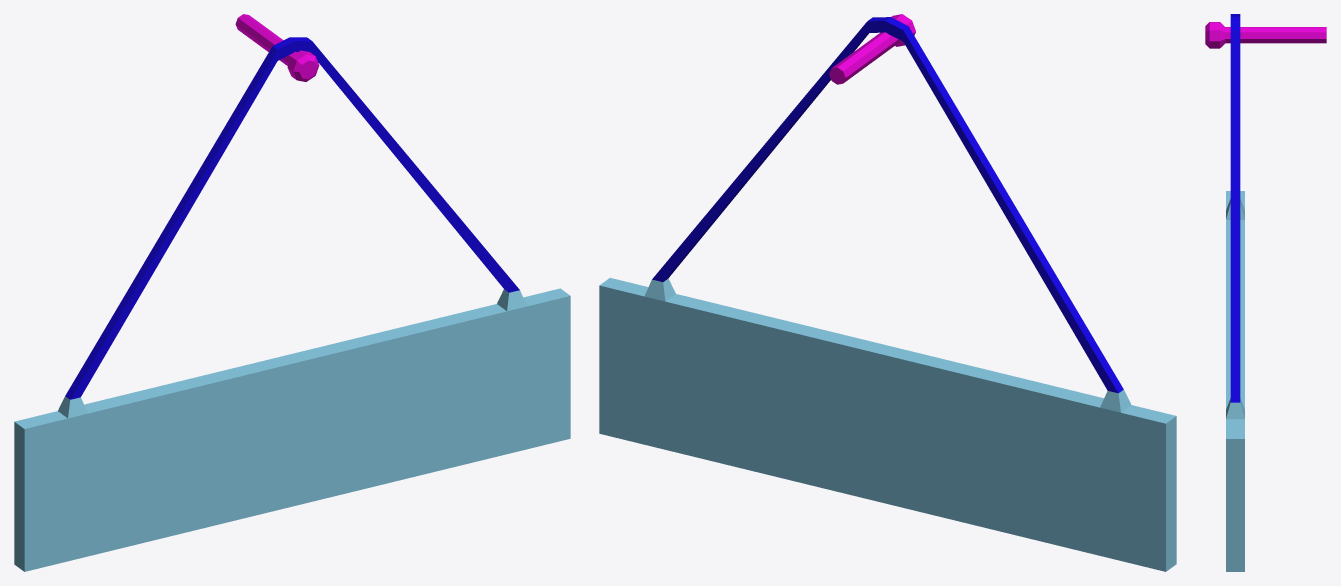
File: insegna_FruttaEVerdura.fbx
3 views of the same model, side by side, from view 1: azimuth 30°, elevation 25°; view 2: azimuth 150°, elevation 25°; view 3: azimuth 270°, elevation 25° (orthographic). The views are drawn at different scales.
Parts seen in each view (by area): view 1: FruttaEVerdura; view 2: FruttaEVerdura; view 3: FruttaEVerdura.
Boxes of the visible parts, x1=… form: FruttaEVerdura: x1=14, y1=14, x2=570, y2=571; FruttaEVerdura: x1=599, y1=14, x2=1176, y2=571; FruttaEVerdura: x1=1205, y1=14, x2=1326, y2=571.
Size of the model in its own units: 600 by 486 by 124.
